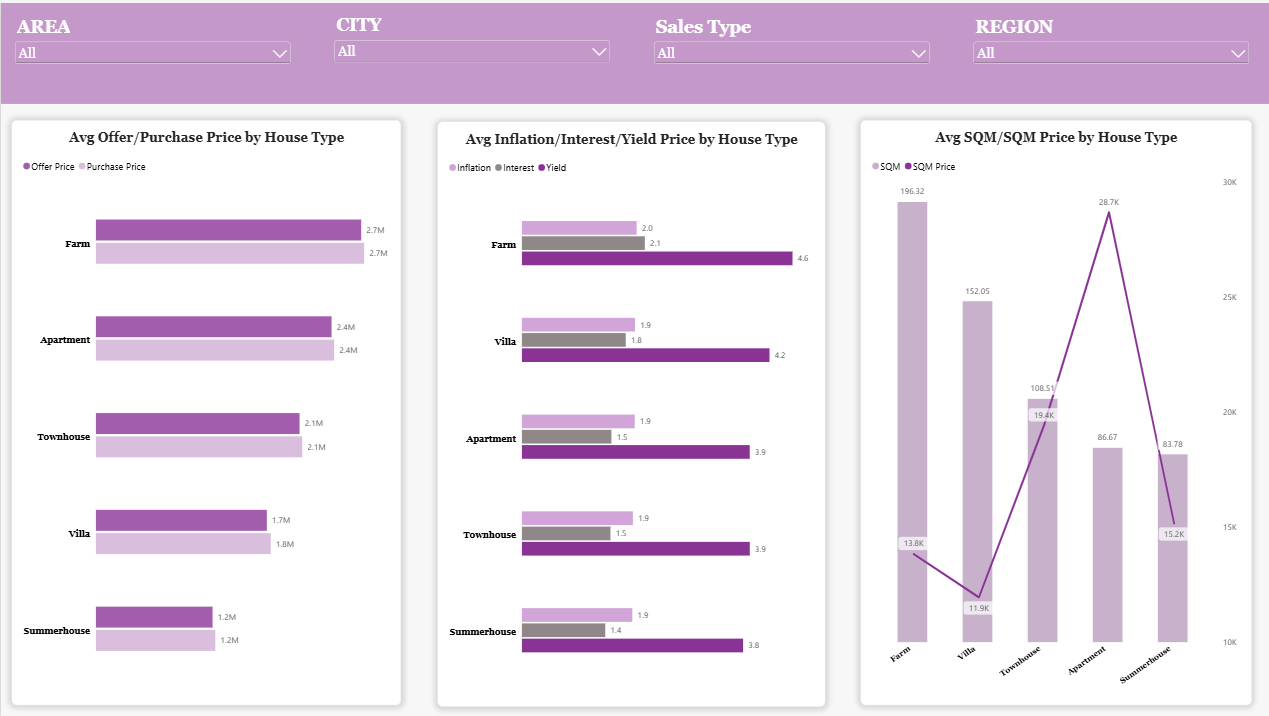

What the dashboard file says about the page in this screenshot:
{"tool":"powerbi","page":{"name":"House Type Analysis","canvas":[1920,1080],"ordinal":2},"visuals":[{"type":"shape","box":[0,0,1920.7,152.7],"z":0},{"type":"clusteredBarChart","title":"Avg Offer/Purchase Price by House Type","fields":{"Category":["Housing.house_type"],"Y":["Avg(Housing.Offer Price)","Avg(Housing.purchase_price)"]},"box":[16.7,176.6,589.3,885.2],"z":1000},{"type":"clusteredBarChart","title":"Avg Inflation/Interest/Yield Price by House Type","fields":{"Category":["Housing.house_type"],"Y":["Avg(Housing.dk_ann_infl_rate%)","Avg(Housing.nom_interest_rate%)","Avg(Housing.yield_on_mortgage_credit_bonds%)"]},"box":[659.7,178.9,586.9,885.2],"z":1001},{"type":"lineStackedColumnComboChart","title":"Avg SQM/SQM Price by House Type","fields":{"Category":["Housing.house_type"],"Y":["Avg(Housing.sqm)"],"Y2":["Avg(Housing.sqm_price)"]},"box":[1300.3,176.6,591.7,885.2],"z":1002},{"type":"slicer","fields":{"Values":["Housing.area"]},"box":[16.7,21.5,427.1,112.1],"z":1003},{"type":"slicer","fields":{"Values":["Housing.city"]},"box":[499.5,19.1,427.1,112.1],"z":1004},{"type":"slicer","fields":{"Values":["Housing.sales_type"]},"box":[982.2,21.5,427.1,112.1],"z":1005},{"type":"slicer","fields":{"Values":["Housing.region"]},"box":[1465,21.5,427.1,112.1],"z":1006},{"type":"actionButton","box":[0,0,100,40],"z":1007}]}

Visuals, with their boxes in screenshot pixels (x1, y1, x2, y2), scaled from the page's 1920x1080 canvas onto the 1269x716 screenshot:
shape: x1=0 y1=0 x2=1268 y2=101
"Avg Offer/Purchase Price by House Type" clusteredBarChart: x1=11 y1=117 x2=401 y2=704
"Avg Inflation/Interest/Yield Price by House Type" clusteredBarChart: x1=436 y1=119 x2=824 y2=705
"Avg SQM/SQM Price by House Type" lineStackedColumnComboChart: x1=859 y1=117 x2=1250 y2=704
slicer - Housing.area: x1=11 y1=14 x2=293 y2=89
slicer - Housing.city: x1=330 y1=13 x2=612 y2=87
slicer - Housing.sales_type: x1=649 y1=14 x2=931 y2=89
slicer - Housing.region: x1=968 y1=14 x2=1251 y2=89
actionButton: x1=0 y1=0 x2=66 y2=27
